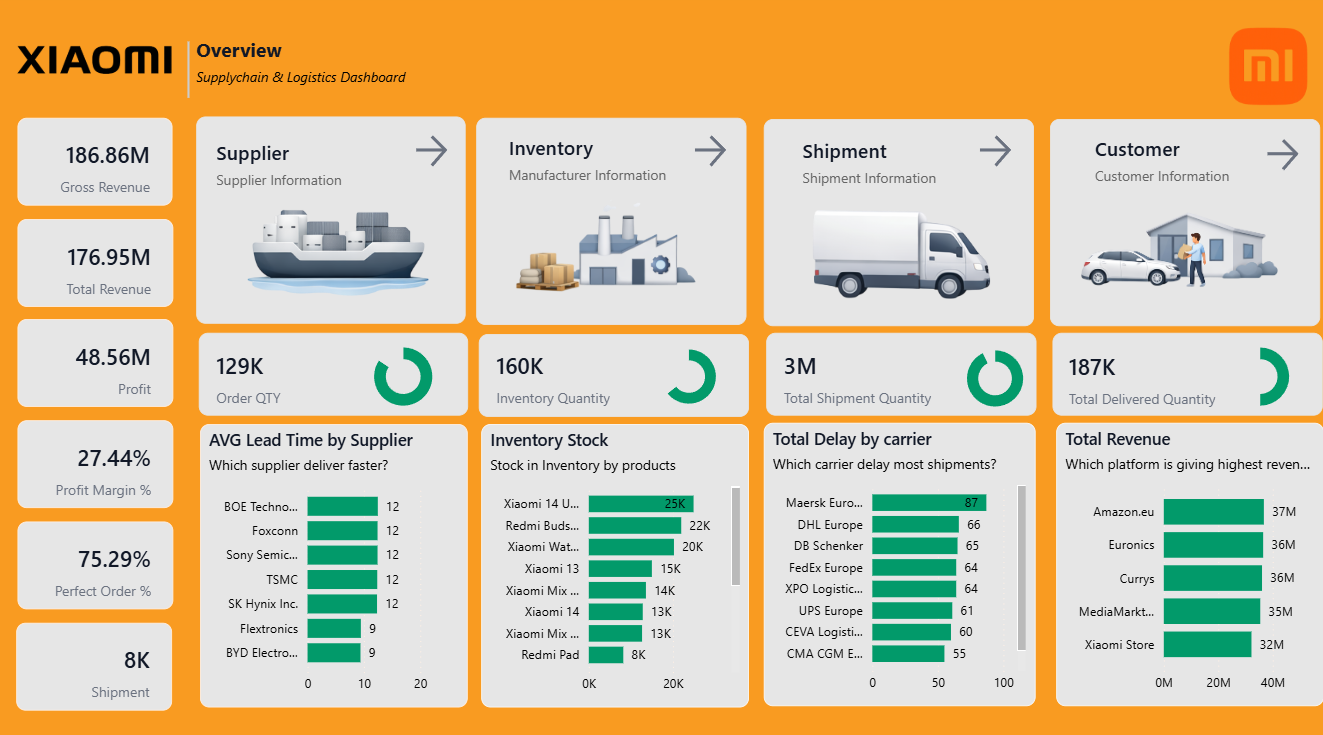

The page's visual inventory and layout, read from the dashboard file:
{"tool":"powerbi","page":{"name":"Overview","canvas":[1280,720],"ordinal":1},"visuals":[{"type":"shape","box":[189.4,118.2,260,200],"z":0},{"type":"shape","box":[459.7,119.4,260.6,200],"z":1000},{"type":"shape","box":[737.1,120.6,260.6,200],"z":2000},{"type":"shape","box":[1013.4,120.6,260.6,200],"z":3000},{"type":"image","box":[473.7,136,208.9,207.7],"z":4000},{"type":"image","box":[764,139.7,207.7,207.7],"z":5000},{"type":"image","box":[1030,131.2,225.9,224.7],"z":6000},{"type":"actionButton","box":[1217.1,134.8,41.3,40.1],"z":7000},{"type":"actionButton","box":[940.1,131.2,41.3,40.1],"z":8000},{"type":"actionButton","box":[664.4,131.2,40.1,40.1],"z":9000},{"type":"actionButton","box":[396,131.2,40.1,40.1],"z":10000},{"type":"shape","title":"Supplier","box":[208.7,139.9,160,55],"z":11000},{"type":"shape","title":"Customer","box":[1056.8,136.7,160,55],"z":12000},{"type":"shape","title":"Shipment","box":[774.1,138.3,160,55],"z":13000},{"type":"shape","title":"Inventory","box":[491.4,135.1,160,55],"z":14000},{"type":"shape","title":"Overview","box":[189.5,41.3,228.4,65.6],"z":15000},{"type":"shape","box":[131.2,46.2,100.8,54.7],"z":16000},{"type":"cardVisual","fields":{"Data":["Measures_Table.Total Revenue"]},"box":[17,216.6,150.6,85],"z":17000},{"type":"cardVisual","fields":{"Data":["Measures_Table.Profit"]},"box":[17.4,314.2,150,85],"z":18000},{"type":"cardVisual","fields":{"Data":["Measures_Table.Profit Margin %"]},"box":[17.4,411.7,150,85],"z":19000},{"type":"cardVisual","fields":{"Data":["Measures_Table.Perfect Order %"]},"box":[17.4,509.3,150,85],"z":20000},{"type":"cardVisual","fields":{"Data":["Measures_Table.Gross Revenue"]},"box":[17,119,149.4,85],"z":21000},{"type":"cardVisual","fields":{"Data":["Measures_Table.Total Shipment"]},"box":[16.2,606.8,150,85],"z":22000},{"type":"shape","box":[191.4,326.6,260,80],"z":23000},{"type":"shape","box":[739.1,326.6,260.6,80],"z":24000},{"type":"shape","box":[461.6,327.8,260.6,80],"z":25000},{"type":"shape","box":[1015.4,326.6,260.6,80],"z":26000},{"type":"cardVisual","fields":{"Data":["Measures_Table.Order QTY"]},"box":[191.4,326.6,149.6,79.6],"z":27000},{"type":"cardVisual","fields":{"Data":["Measures_Table.Inventory Value"]},"box":[461.6,326.6,149.6,79.6],"z":28000},{"type":"cardVisual","fields":{"Data":["Measures_Table.Total Shipment Quantity"]},"box":[739.2,326.7,178.6,79],"z":29000},{"type":"cardVisual","fields":{"Data":["Measures_Table.Total Delivered Quantity"]},"box":[1015,328,178.6,80.2],"z":30000},{"type":"barChart","title":"AVG Lead Time by Supplier","fields":{"Y":["Measures_Table.Avg Lead Time"],"Category":["dim_supplier.supplier_name"]},"box":[193.1,415.4,258.7,273.3],"z":31000},{"type":"barChart","title":"Inventory Stock","fields":{"Y":["Measures_Table.Inventory Value"],"Category":["dim_product.product_name"]},"box":[464,415.4,258.7,273.3],"z":32000},{"type":"barChart","fields":{"Y":["Measures_Table.Total Delay"],"Category":["fact_shipment.carrier"]},"box":[737.3,414.2,262.4,273.3],"z":33000},{"type":"barChart","title":"Total Revenue","fields":{"Y":["Measures_Table.Total Revenue"],"Category":["dim_customer.customer_name"]},"box":[1019.1,414.2,258.7,273.3],"z":34000},{"type":"donutChart","fields":{"Y":["Measures_Table.Inventory Value","Measures_Table.Safety Stocks"]},"box":[626.8,329.2,75.3,80.2],"z":35000},{"type":"donutChart","fields":{"Y":["Measures_Table.Total Shipment","Measures_Table.Total Delay"]},"box":[921.9,331.6,77.7,79],"z":36000},{"type":"donutChart","fields":{"Y":["Measures_Table.Total Delivered Quantity","Measures_Table.Total QTY Delay"]},"box":[1175.8,329.2,80.2,80.2],"z":37000},{"type":"donutChart","fields":{"Y":["Measures_Table.Order QTY","Measures_Table.Defect Rate"]},"box":[348.6,329.2,81.4,80.2],"z":38000},{"type":"image","box":[3.6,25.5,177.3,75.3],"z":39000},{"type":"image","box":[1167.3,19.4,113,100.8],"z":40000},{"type":"image","box":[215,171.3,215,137.3],"z":41000}]}

Visuals, with their boxes in screenshot pixels (x1, y1, x2, y2), scaled from the page's 1280x720 canvas onto the 1323x735 screenshot:
shape: <region>196, 121, 464, 325</region>
shape: <region>475, 122, 744, 326</region>
shape: <region>762, 123, 1031, 327</region>
shape: <region>1047, 123, 1317, 327</region>
image: <region>490, 139, 706, 351</region>
image: <region>790, 143, 1004, 355</region>
image: <region>1065, 134, 1298, 363</region>
actionButton: <region>1258, 138, 1301, 179</region>
actionButton: <region>972, 134, 1014, 175</region>
actionButton: <region>687, 134, 728, 175</region>
actionButton: <region>409, 134, 451, 175</region>
"Supplier" shape: <region>216, 143, 381, 199</region>
"Customer" shape: <region>1092, 140, 1258, 196</region>
"Shipment" shape: <region>800, 141, 965, 197</region>
"Inventory" shape: <region>508, 138, 673, 194</region>
"Overview" shape: <region>196, 42, 432, 109</region>
shape: <region>136, 47, 240, 103</region>
cardVisual - Measures_Table.Total Revenue: <region>18, 221, 173, 308</region>
cardVisual - Measures_Table.Profit: <region>18, 321, 173, 408</region>
cardVisual - Measures_Table.Profit Margin %: <region>18, 420, 173, 507</region>
cardVisual - Measures_Table.Perfect Order %: <region>18, 520, 173, 607</region>
cardVisual - Measures_Table.Gross Revenue: <region>18, 121, 172, 208</region>
cardVisual - Measures_Table.Total Shipment: <region>17, 619, 172, 706</region>
shape: <region>198, 333, 467, 415</region>
shape: <region>764, 333, 1033, 415</region>
shape: <region>477, 335, 746, 416</region>
shape: <region>1050, 333, 1319, 415</region>
cardVisual - Measures_Table.Order QTY: <region>198, 333, 352, 415</region>
cardVisual - Measures_Table.Inventory Value: <region>477, 333, 632, 415</region>
cardVisual - Measures_Table.Total Shipment Quantity: <region>764, 334, 949, 414</region>
cardVisual - Measures_Table.Total Delivered Quantity: <region>1049, 335, 1234, 417</region>
"AVG Lead Time by Supplier" barChart: <region>200, 424, 467, 703</region>
"Inventory Stock" barChart: <region>480, 424, 747, 703</region>
barChart - Measures_Table.Total Delay x fact_shipment.carrier: <region>762, 423, 1033, 702</region>
"Total Revenue" barChart: <region>1053, 423, 1321, 702</region>
donutChart - Measures_Table.Inventory Value x Measures_Table.Safety Stocks: <region>648, 336, 726, 418</region>
donutChart - Measures_Table.Total Shipment x Measures_Table.Total Delay: <region>953, 339, 1033, 419</region>
donutChart - Measures_Table.Total Delivered Quantity x Measures_Table.Total QTY Delay: <region>1215, 336, 1298, 418</region>
donutChart - Measures_Table.Order QTY x Measures_Table.Defect Rate: <region>360, 336, 444, 418</region>
image: <region>4, 26, 187, 103</region>
image: <region>1207, 20, 1322, 123</region>
image: <region>222, 175, 444, 315</region>
